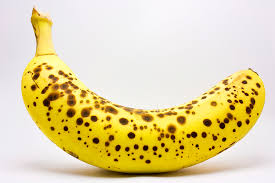banana: (19, 6, 268, 176)
